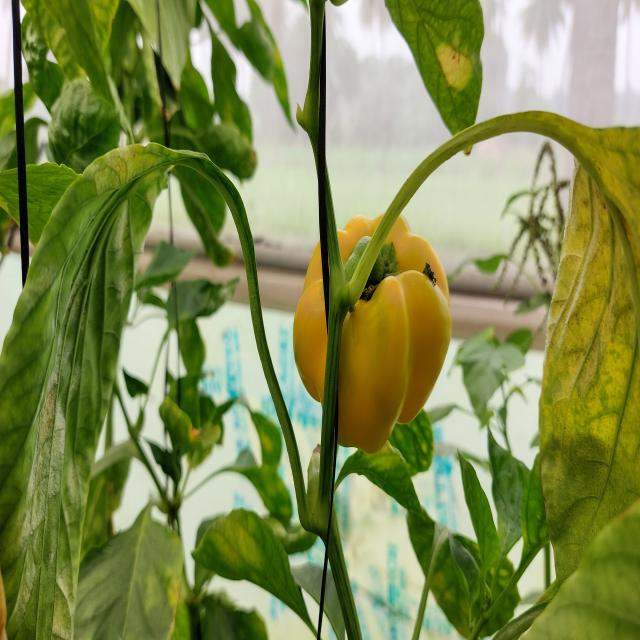Yellow-Ready-to-Harvest: (293, 214, 451, 449)
